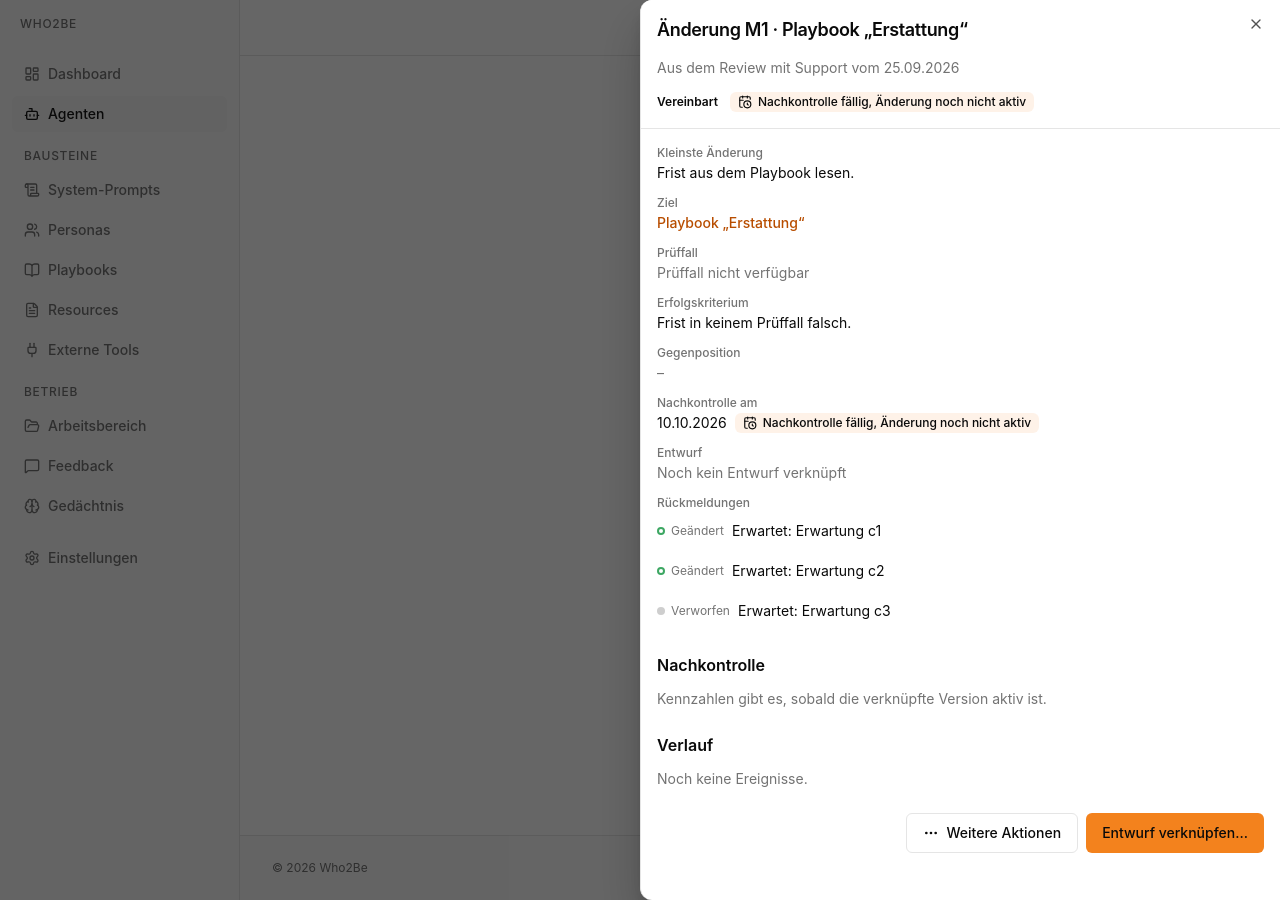
ChangeActions: Leiste je Zustand › Vereinbart, Ziel versioniert: brand „Entwurf verknüpfen…“, im Menü „Zurückziehen…“
Press the mouse on the button with test id "change-more" at (992, 833), box [906, 813, 1078, 853]
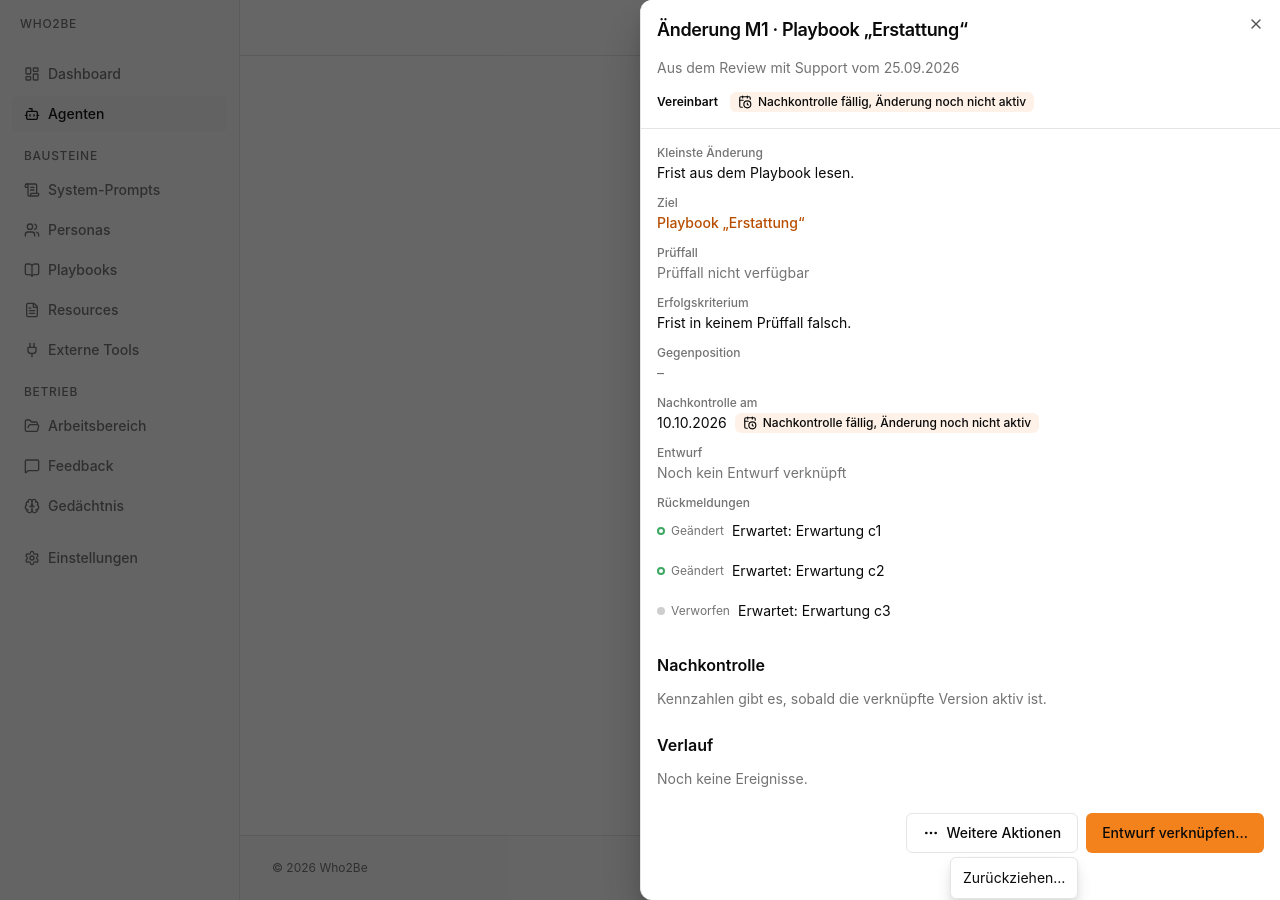
Check: the menu item "Zurückziehen…" is shown, box [963, 869, 1065, 886]
